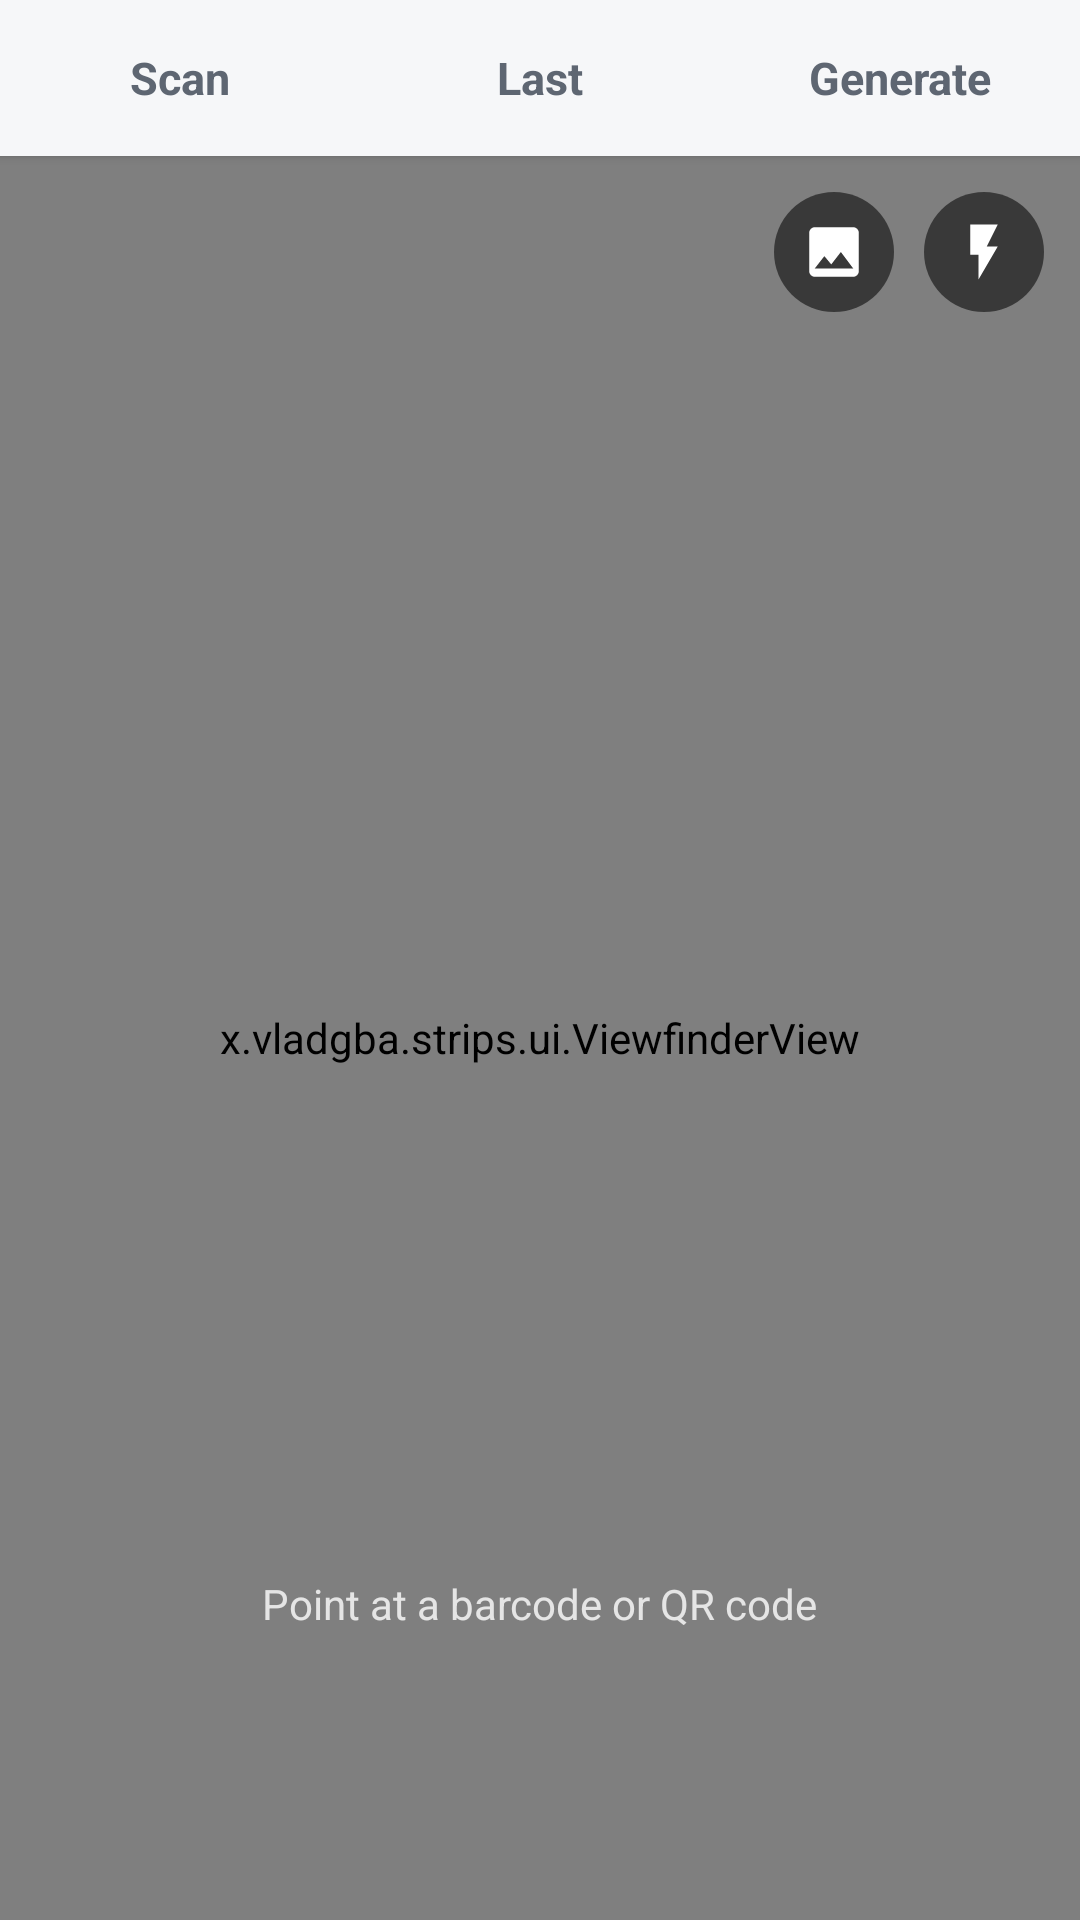

Where to tap for icons on this 1080 × 1920 app screen, as (x=x, y=y):
Scan image: (x=834, y=252)
Torch: (x=984, y=252)
